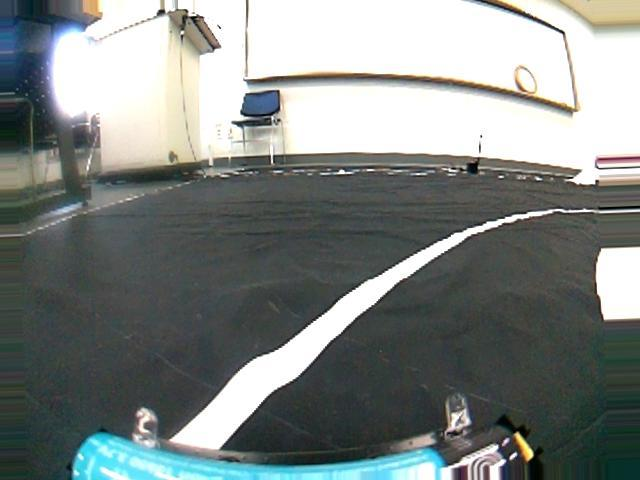right: (114, 200, 640, 479)
